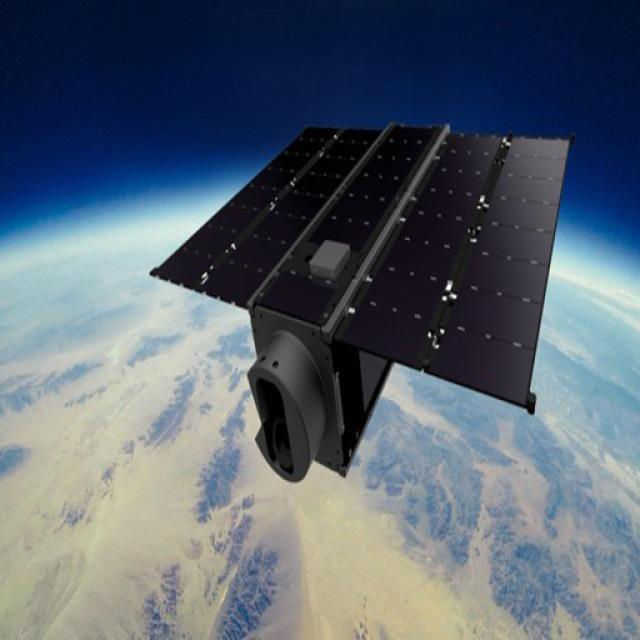sat: (145, 113, 583, 497)
